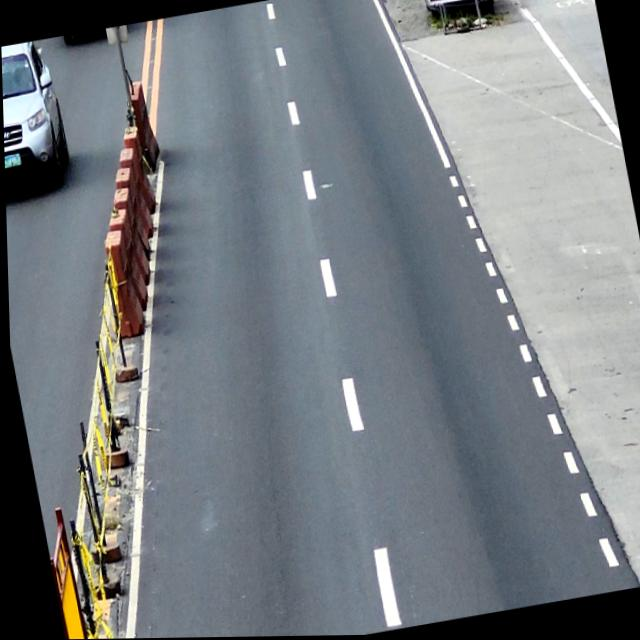Car: (1, 38, 75, 198)
License-Plate: (4, 152, 22, 170)
